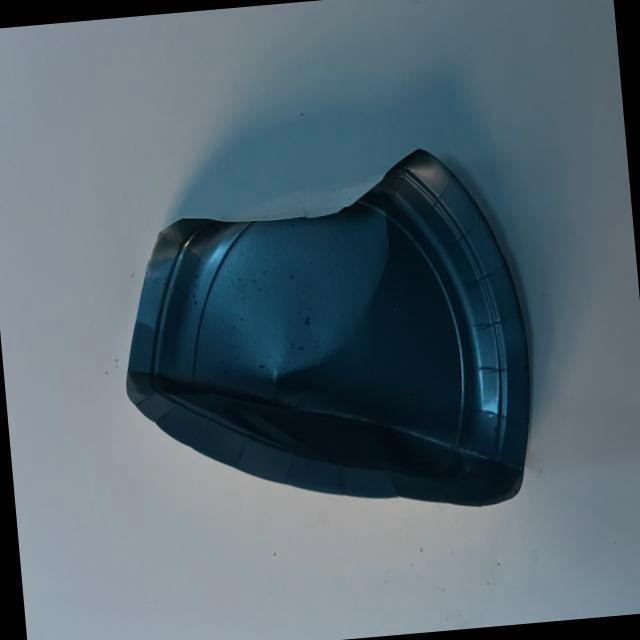metal: (97, 140, 564, 576)
